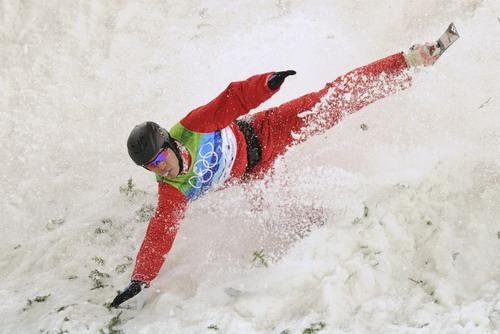fall: (114, 30, 483, 301)
